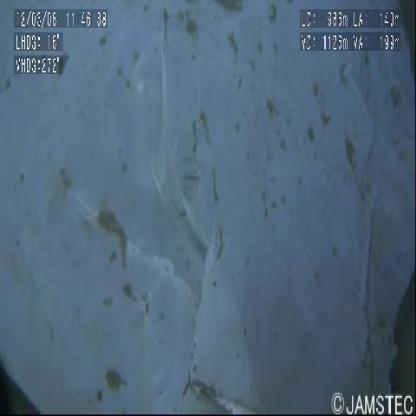Rác: (1, 3, 414, 416)
